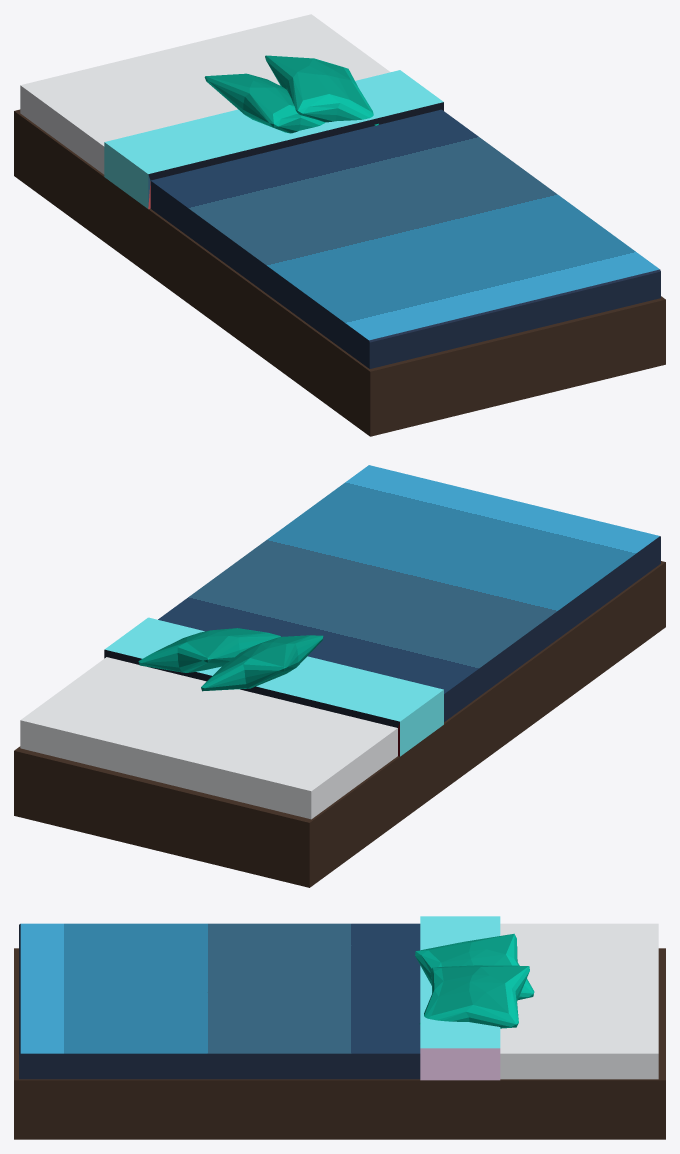
The model's file is Accesories_Bed_Large_B.004.glb.
The picture shows the model from 3 angles, top to bottom: view 1: azimuth 30°, elevation 25°; view 2: azimuth 150°, elevation 25°; view 3: azimuth 270°, elevation 25°; orthographic projection. The views are drawn at different scales.
Parts seen in each view (by area): view 1: Accesories_Bed_Large_B.004; view 2: Accesories_Bed_Large_B.004; view 3: Accesories_Bed_Large_B.004.
Boxes of the visible parts, bbox=[...] form: Accesories_Bed_Large_B.004: bbox=[14, 14, 665, 436]; Accesories_Bed_Large_B.004: bbox=[14, 465, 665, 887]; Accesories_Bed_Large_B.004: bbox=[14, 916, 665, 1139].
Size of the model in its own units: 1.01 by 0.4386 by 2.1.
1 material, 1 textured.
